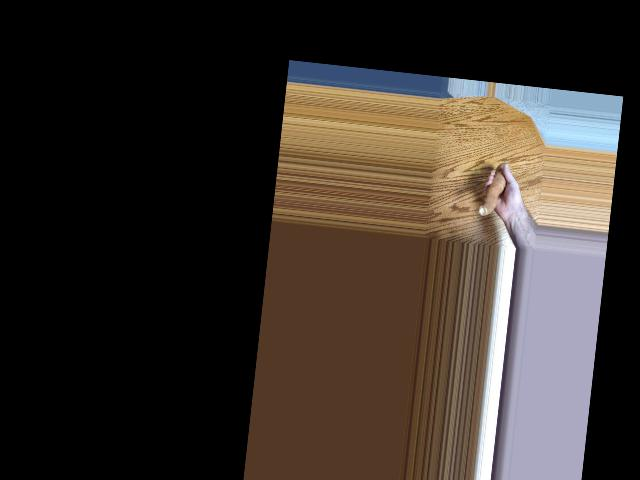sweet_potato: (478, 158, 508, 221)
